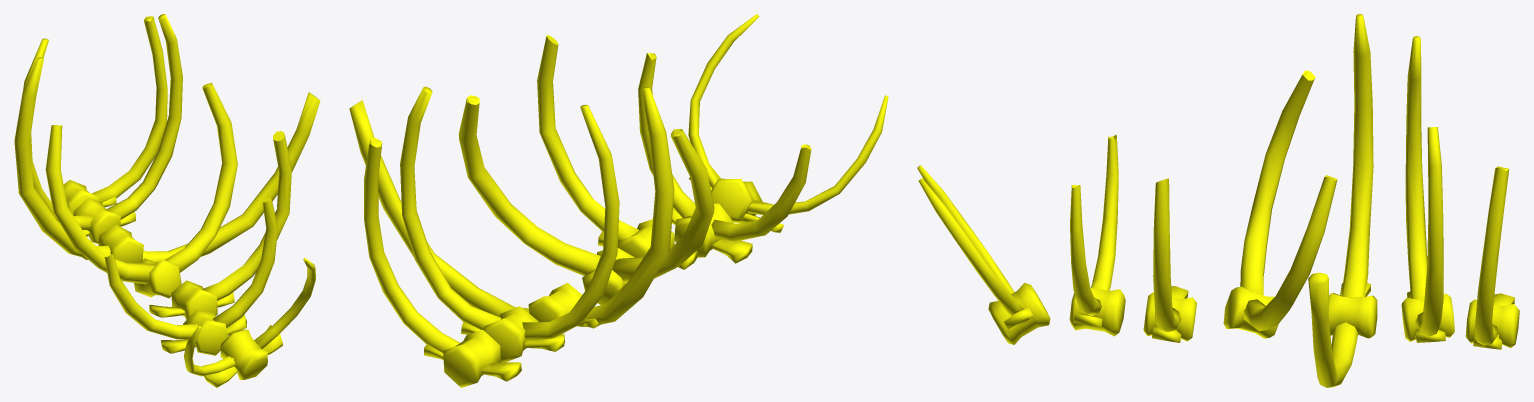
The model's file is bone_whale_rib_up01.glb.
3 views of the same model, side by side, from view 1: azimuth 30°, elevation 25°; view 2: azimuth 150°, elevation 25°; view 3: azimuth 270°, elevation 25° (orthographic). The views are drawn at different scales.
Visible parts, largest first — view 1: bone_whale_rib_up01; view 2: bone_whale_rib_up01; view 3: bone_whale_rib_up01.
Part boxes in pixels (bbox=[...]): bone_whale_rib_up01: bbox=[14, 14, 320, 387]; bone_whale_rib_up01: bbox=[349, 14, 888, 387]; bone_whale_rib_up01: bbox=[917, 14, 1519, 387].
Bounding box in the file's own units: 19.37 × 14.49 × 27.68.
1 material, 1 textured.
